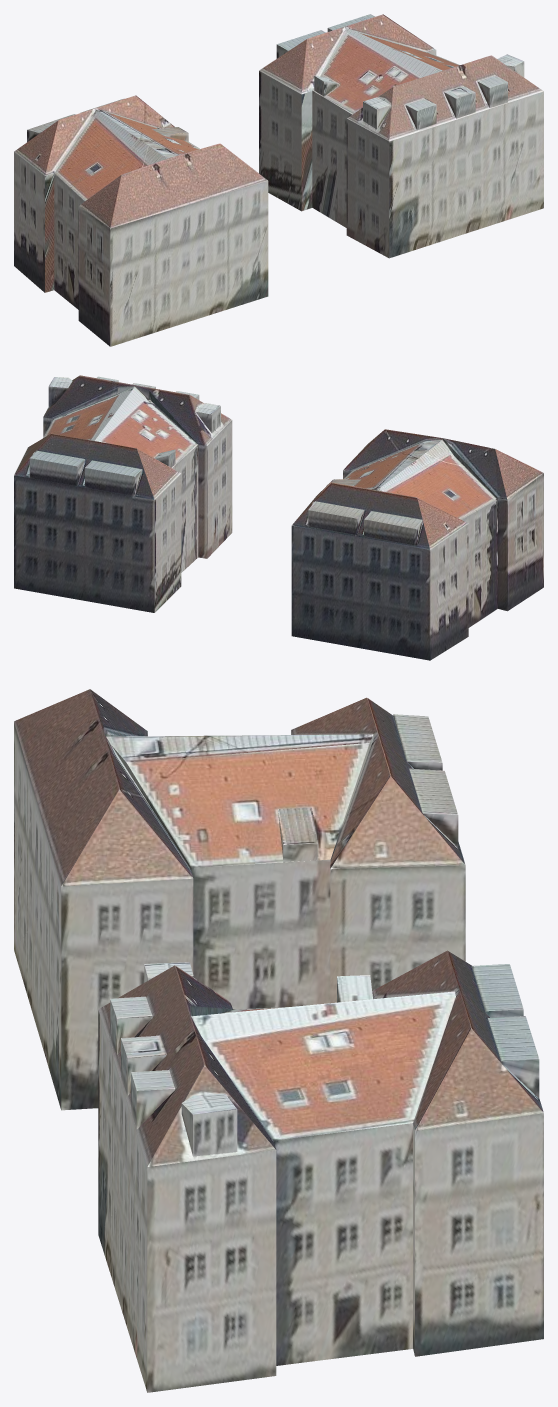
File: LYON_1ER_00102.dae
3 renders of one model, top to bottom at view 1: azimuth 30°, elevation 25°; view 2: azimuth 150°, elevation 25°; view 3: azimuth 270°, elevation 25°, orthographic. The views are drawn at different scales.
Bounding box in the file's own units: 65.45 × 33.24 × 20.39.
2 materials, 2 textured.
